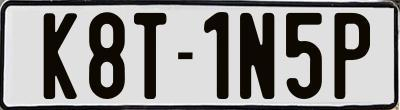1: (201, 9, 232, 97)
5: (286, 12, 325, 104)
8: (87, 12, 129, 104)
K: (42, 11, 81, 101)
N: (240, 13, 280, 101)
P: (331, 10, 371, 100)
T: (131, 13, 164, 104)
